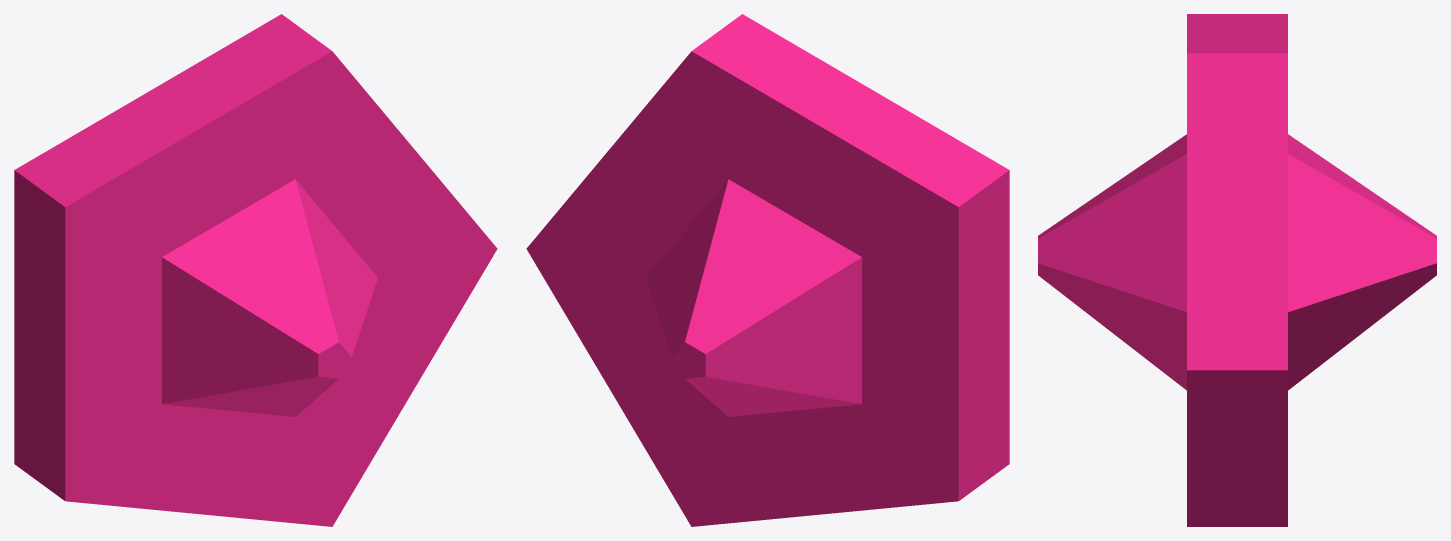
File: itemPrism.fbx
The picture shows the model from 3 angles, left to right: view 1: azimuth 30°, elevation 25°; view 2: azimuth 150°, elevation 25°; view 3: azimuth 270°, elevation 25°; orthographic projection.
Visible parts, largest first — view 1: itemPrism; view 2: itemPrism; view 3: itemPrism.
Boxes of the visible parts, <box> form: itemPrism: <box>14,14,497,526</box>; itemPrism: <box>526,14,1009,526</box>; itemPrism: <box>1038,14,1436,526</box>.
Bounding box in the file's own units: 154 × 162 × 123.
